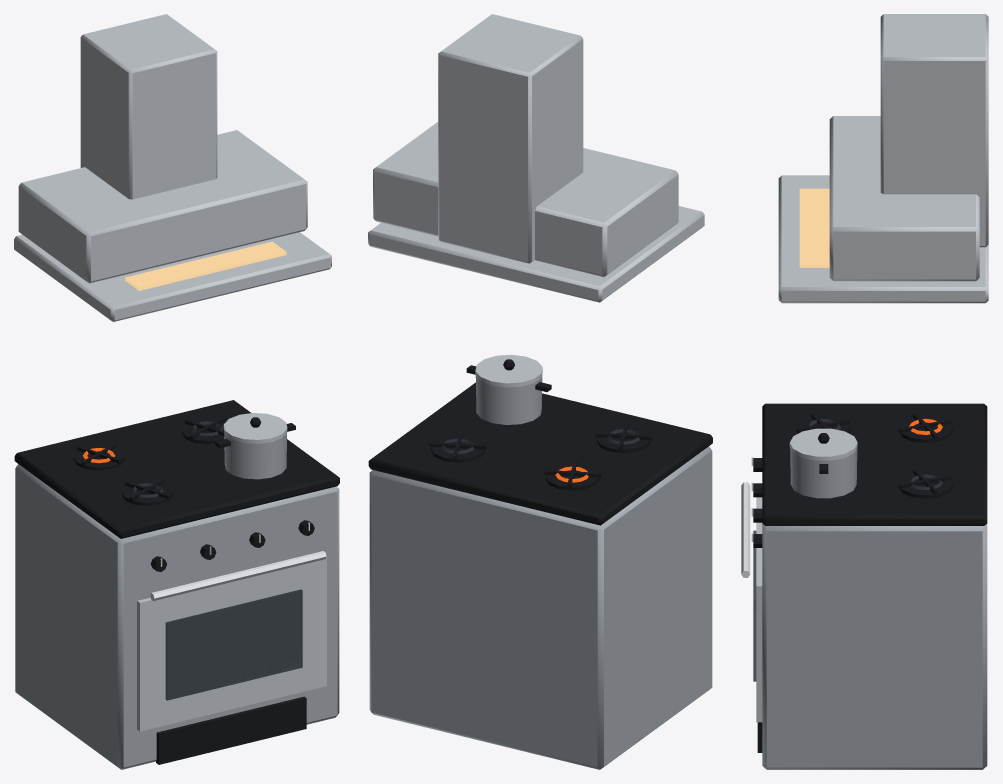
Rendered from galley_range_with_hood.glb.
The picture shows the model from 3 angles, left to right: view 1: azimuth 30°, elevation 25°; view 2: azimuth 150°, elevation 25°; view 3: azimuth 270°, elevation 25°; orthographic projection. The views are drawn at different scales.
Parts seen in each view (by area): view 1: galley_range_with_hood; view 2: galley_range_with_hood; view 3: galley_range_with_hood.
Boxes of the visible parts, x1,y1,x2,y2 form: galley_range_with_hood: (14,14,339,769); galley_range_with_hood: (368,14,712,769); galley_range_with_hood: (741,14,988,769).
Bounding box in the file's own units: 0.9 × 2.5 × 0.825.
